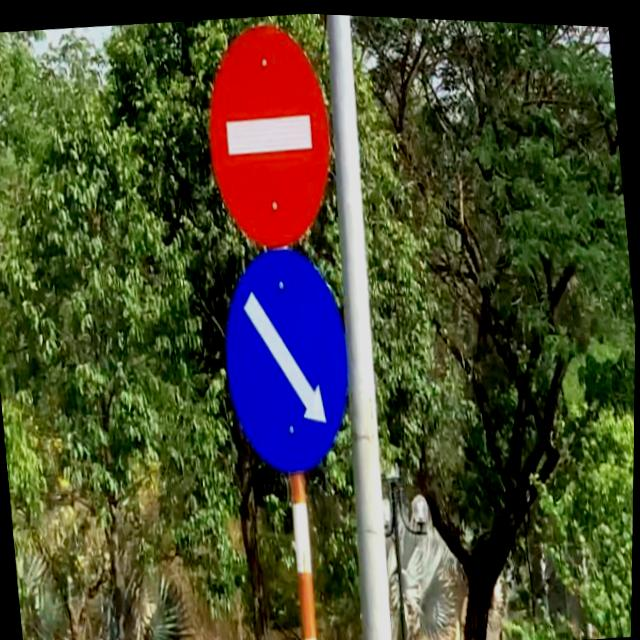Cam di nguoc chieu: (193, 11, 345, 256)
Vong chuong ngai vat sang phai: (208, 232, 366, 494)
